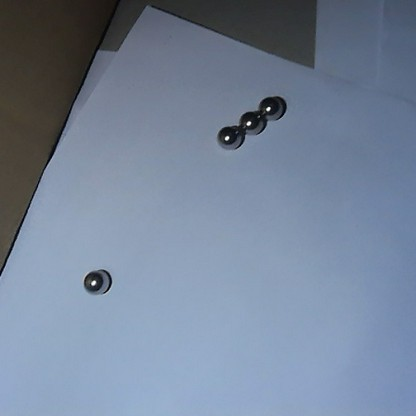ironball: (81, 266, 116, 301), (212, 123, 244, 153), (235, 107, 268, 135), (259, 95, 286, 122)
